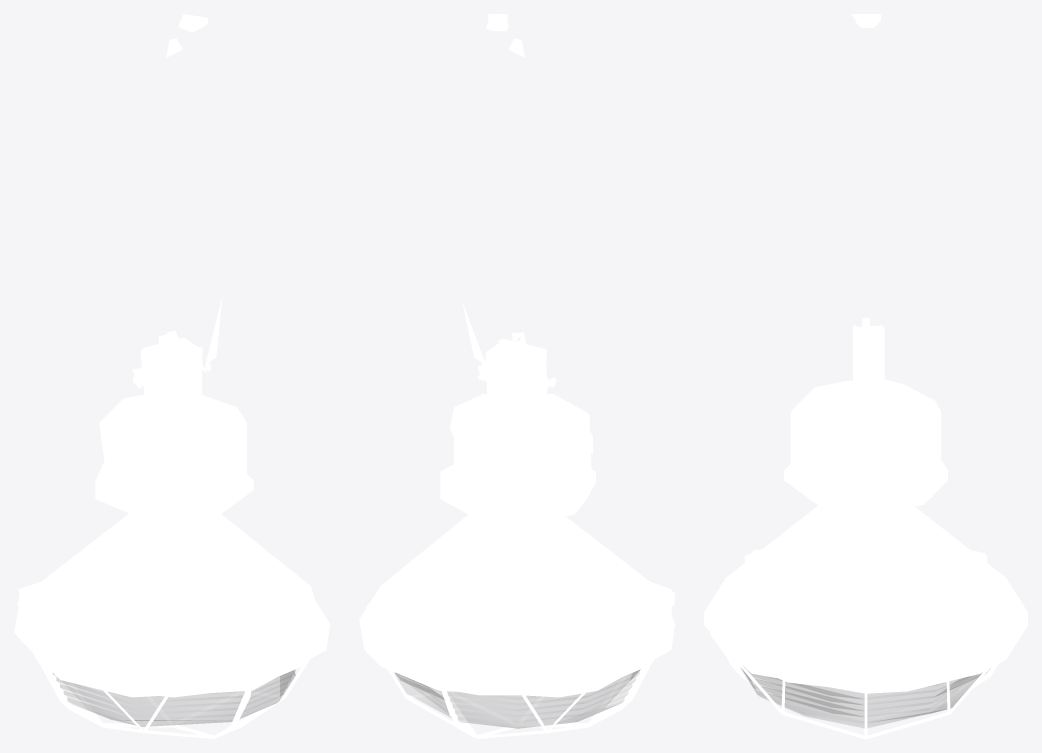
Rendered from hanging_industrial_lamp.glb.
3 views of the same model, side by side, from view 1: azimuth 30°, elevation 25°; view 2: azimuth 150°, elevation 25°; view 3: azimuth 270°, elevation 25° (orthographic).
Visible parts, largest first — view 1: hanging_industrial_lamp; view 2: hanging_industrial_lamp; view 3: hanging_industrial_lamp.
Part boxes in pixels (left/top/right/bottom): hanging_industrial_lamp: left=14, top=14, right=330, bottom=738; hanging_industrial_lamp: left=359, top=14, right=675, bottom=738; hanging_industrial_lamp: left=704, top=14, right=1027, bottom=738.
Size of the model in its own units: 0.5462 by 1.34 by 0.5496.
2 materials, 1 textured.
